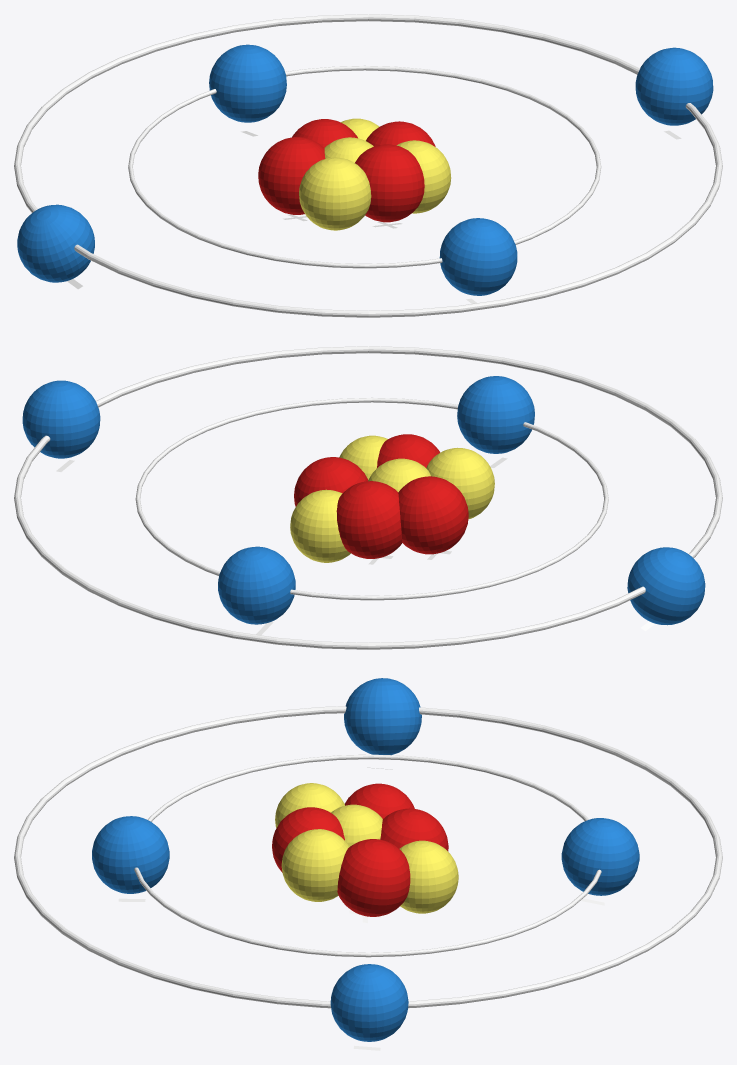
3 renders of one model, top to bottom at view 1: azimuth 30°, elevation 25°; view 2: azimuth 150°, elevation 25°; view 3: azimuth 270°, elevation 25°, orthographic.
Parts seen in each view (by area): view 1: Torus.002, Torus.001, -, -.001, -.002, -.003, Sphere.003, f.002, f.003, Sphere.001, f.001, f (+1 smaller); view 2: Torus.002, Torus.001, -.001, -, -.002, -.003, f.003, f, Sphere, Sphere.003, f.001, f.002 (+2 smaller); view 3: Torus.002, Torus.001, -.002, -.003, -, -.001, f.001, Sphere.001, Sphere, f, f.002, Sphere.003 (+2 smaller).
Part boxes in pixels (box(x1,y1,x2,y2)): Torus.002: box(14, 14, 722, 317); Torus.001: box(128, 65, 601, 268); -: box(439, 218, 517, 295); -.001: box(209, 44, 286, 122); -.002: box(635, 47, 713, 125); -.003: box(17, 204, 94, 282); Sphere.003: box(299, 157, 371, 230); f.002: box(355, 144, 424, 222); f.003: box(258, 137, 325, 214); Sphere.001: box(396, 140, 451, 213); f.001: box(366, 121, 435, 146); f: box(292, 119, 357, 147); Torus.002: box(14, 346, 722, 649); Torus.001: box(135, 397, 608, 600); -.001: box(218, 546, 295, 624); -: box(457, 376, 534, 453); -.002: box(22, 380, 100, 458); -.003: box(627, 547, 705, 625); f.003: box(398, 476, 468, 554); f: box(336, 481, 402, 558); Sphere: box(290, 489, 350, 562); Sphere.003: box(426, 447, 494, 519); f.001: box(294, 457, 368, 506); f.002: box(376, 434, 440, 468); Torus.002: box(14, 706, 722, 1008); Torus.001: box(134, 754, 601, 957); -.002: box(330, 964, 408, 1041); -.003: box(344, 678, 421, 755); -: box(92, 816, 169, 893); -.001: box(561, 818, 639, 895); f.001: box(337, 839, 410, 916); Sphere.001: box(281, 829, 349, 901); Sphere: box(399, 840, 458, 913); f: box(380, 808, 448, 851); f.002: box(272, 807, 344, 872); Sphere.003: box(275, 783, 344, 827).
Size of the model in its own units: 4.68 by 0.6257 by 4.23.
